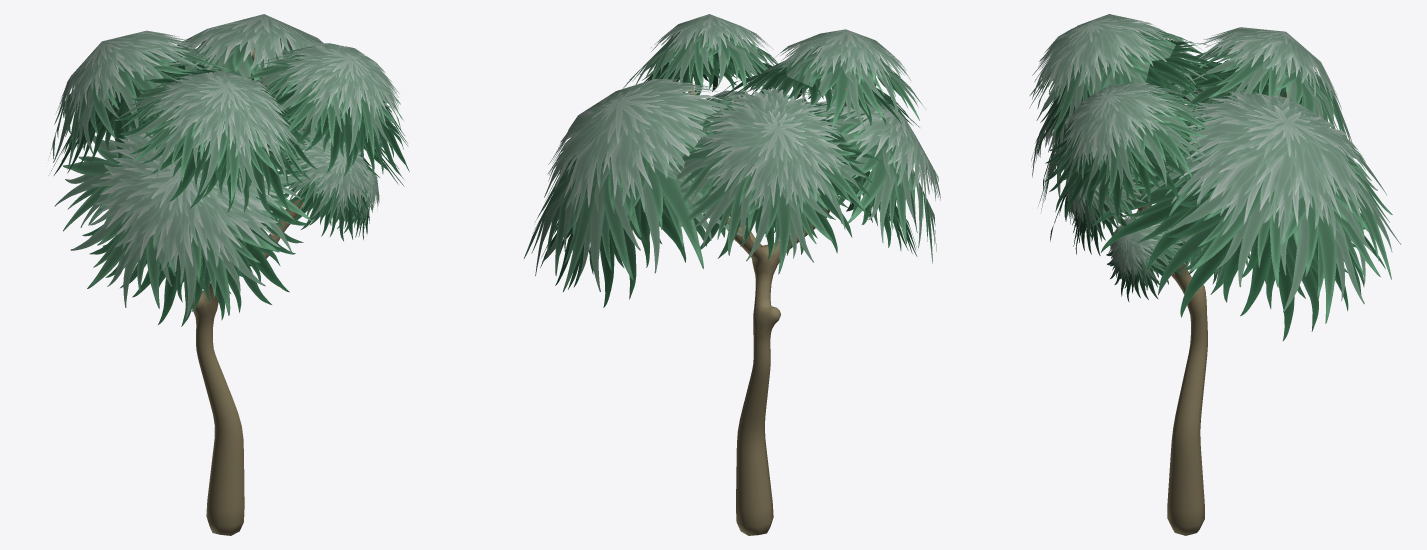
File: Gumtree_002.fbx
3 views of the same model, side by side, from view 1: azimuth 30°, elevation 25°; view 2: azimuth 150°, elevation 25°; view 3: azimuth 270°, elevation 25° (orthographic). The views are drawn at different scales.
Parts seen in each view (by area): view 1: Light_Leaf_Top.038, Medium_Leaf_Top.037, Light_Leaf_Top.035, Cube, Medium_Leaf_Top.034, Light_Leaf_Top.028, Dark_Leaf_Top.033, Light_Leaf_Top.032, Medium_Leaf_Top.028, Medium_Leaf_Top.031, Dark_Leaf_Top.036, Light_Leaf_Top.031 (+6 smaller); view 2: Light_Leaf_Top.031, Medium_Leaf_Top.030, Light_Leaf_Top.032, Medium_Leaf_Top.031, Cube, Medium_Leaf_Top.037, Medium_Leaf_Top.034, Light_Leaf_Top.038, Medium_Leaf_Top.028, Light_Leaf_Top.035, Dark_Leaf_Top.029, Dark_Leaf_Top.030 (+4 smaller); view 3: Light_Leaf_Top.031, Medium_Leaf_Top.030, Dark_Leaf_Top.029, Cube, Light_Leaf_Top.035, Light_Leaf_Top.028, Medium_Leaf_Top.028, Medium_Leaf_Top.031, Dark_Leaf_Top.028, Medium_Leaf_Top.034, Light_Leaf_Top.032, Dark_Leaf_Top.033 (+9 smaller).
Boxes of the visible parts, x1,y1,x2,y2 form: Light_Leaf_Top.038: (90,114,291,284); Medium_Leaf_Top.037: (54,115,312,318); Light_Leaf_Top.035: (146,70,297,166); Cube: (109,42,309,535); Medium_Leaf_Top.034: (116,79,305,202); Light_Leaf_Top.028: (278,43,402,125); Dark_Leaf_Top.033: (114,68,316,216); Light_Leaf_Top.032: (54,30,203,124); Medium_Leaf_Top.028: (247,46,404,157); Medium_Leaf_Top.031: (49,45,231,169); Dark_Leaf_Top.036: (82,195,305,326); Light_Leaf_Top.031: (167,14,323,70); Light_Leaf_Top.031: (544,79,726,225); Medium_Leaf_Top.030: (524,101,742,291); Light_Leaf_Top.032: (694,87,851,219); Medium_Leaf_Top.031: (676,100,866,274); Cube: (673,56,847,535); Medium_Leaf_Top.037: (807,102,936,263); Medium_Leaf_Top.034: (741,46,925,129); Light_Leaf_Top.038: (799,90,940,204); Medium_Leaf_Top.028: (623,29,778,92); Light_Leaf_Top.035: (772,29,910,85); Dark_Leaf_Top.029: (540,107,728,307); Dark_Leaf_Top.030: (700,95,881,259); Light_Leaf_Top.031: (1171,91,1374,242); Medium_Leaf_Top.030: (1140,101,1401,323); Dark_Leaf_Top.029: (1093,120,1385,341); Cube: (1131,37,1286,535); Light_Leaf_Top.035: (1032,14,1171,104); Light_Leaf_Top.028: (1061,82,1184,173); Medium_Leaf_Top.028: (1055,87,1214,199); Medium_Leaf_Top.031: (1178,44,1352,142); Dark_Leaf_Top.028: (1044,114,1206,223); Medium_Leaf_Top.034: (1029,29,1208,136); Light_Leaf_Top.032: (1196,27,1341,109); Dark_Leaf_Top.033: (1035,38,1222,154).
Size of the model in its own units: 1246 by 1606 by 1224.
